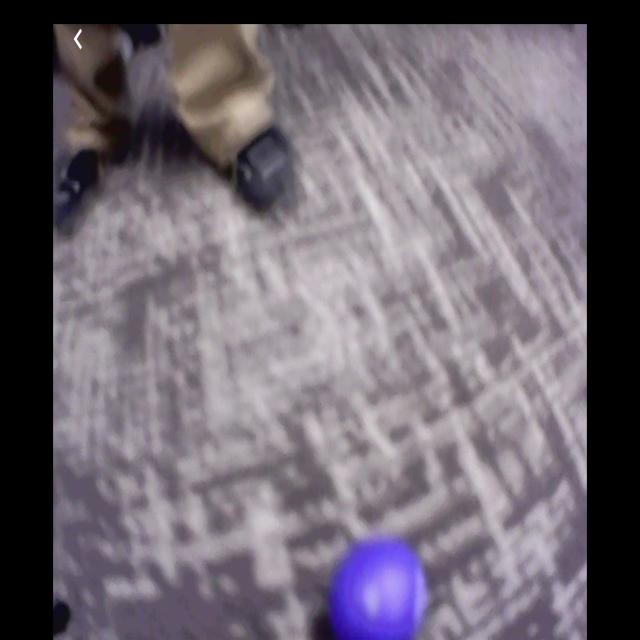ball: (325, 534, 427, 640)
